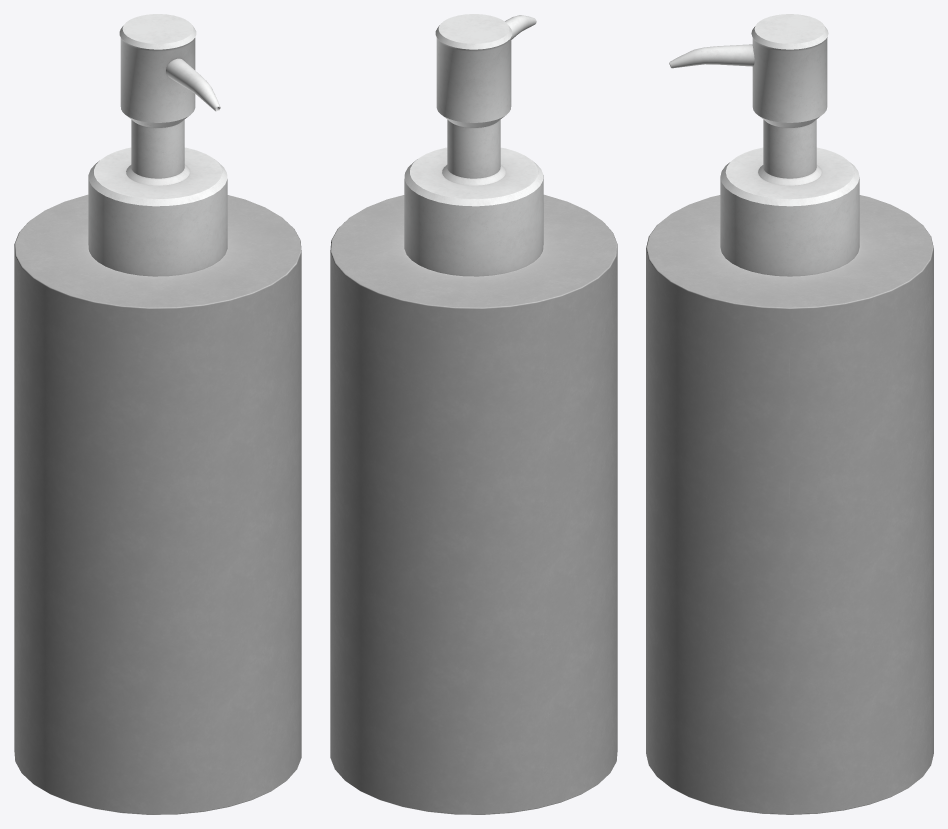
Rendered from SM_SoapHolderS.fbx.
3 views of the same model, side by side, from view 1: azimuth 30°, elevation 25°; view 2: azimuth 150°, elevation 25°; view 3: azimuth 270°, elevation 25° (orthographic).
Visible parts, largest first — view 1: SM_SoapHolderS_LOD0; view 2: SM_SoapHolderS_LOD0; view 3: SM_SoapHolderS_LOD0.
Boxes of the visible parts, box(x1,y1,x2,y2) form: SM_SoapHolderS_LOD0: box(14, 14, 301, 814); SM_SoapHolderS_LOD0: box(330, 14, 617, 814); SM_SoapHolderS_LOD0: box(646, 14, 933, 814).
Bounding box in the file's own units: 10.67 × 10.67 × 29.67.
Materials: 1 (1 with a texture image).
